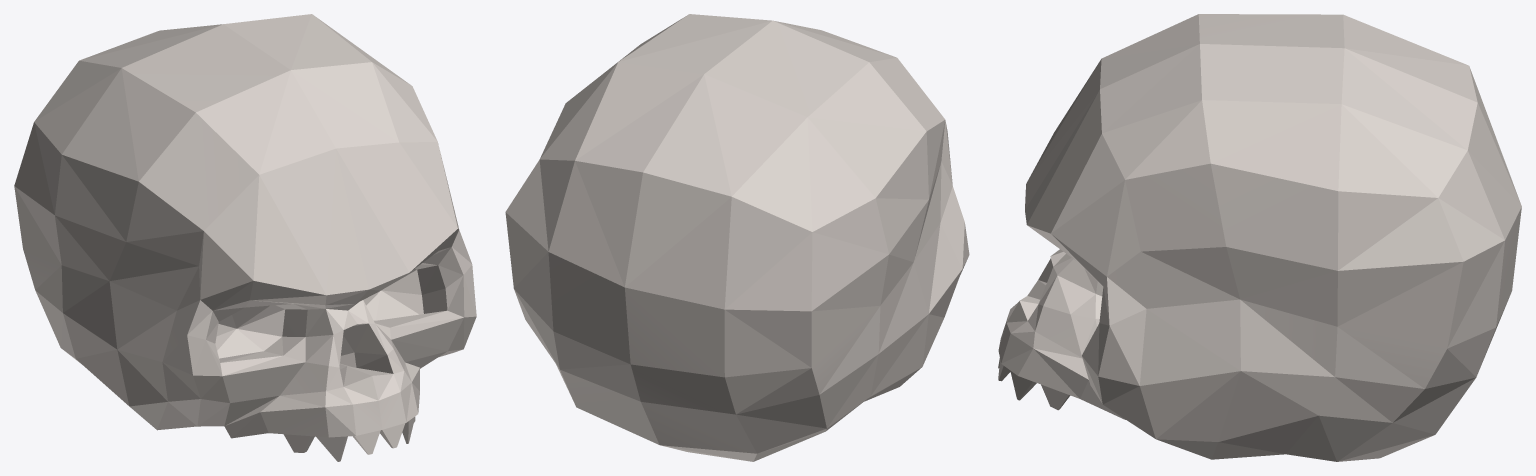
The model's file is enCrabSkullShell.fbx.
3 views of the same model, side by side, from view 1: azimuth 30°, elevation 25°; view 2: azimuth 150°, elevation 25°; view 3: azimuth 270°, elevation 25° (orthographic). The views are drawn at different scales.
Visible parts, largest first — view 1: enCrabSkullShell; view 2: enCrabSkullShell; view 3: enCrabSkullShell.
Part boxes in pixels (bbox=[...]): enCrabSkullShell: bbox=[14, 14, 476, 461]; enCrabSkullShell: bbox=[505, 14, 969, 461]; enCrabSkullShell: bbox=[998, 14, 1521, 461].
Size of the model in its own units: 0.9973 by 1.04 by 1.28.
